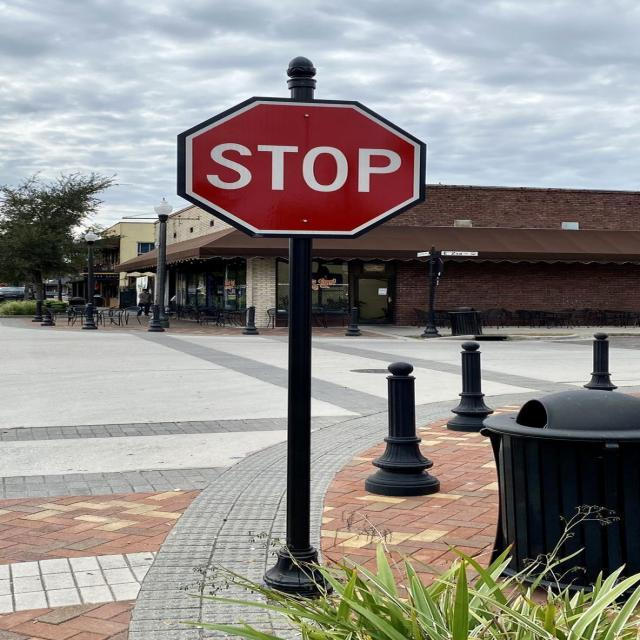stop: (175, 95, 426, 239)
